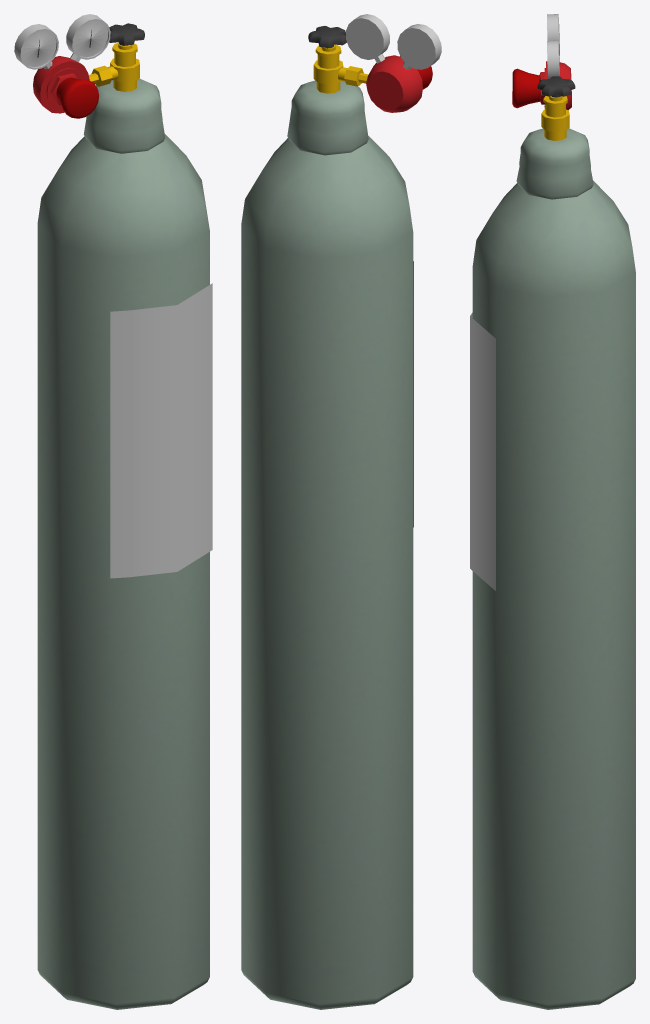
File: SM_氢气瓶.FBX
The picture shows the model from 3 angles, left to right: view 1: azimuth 30°, elevation 25°; view 2: azimuth 150°, elevation 25°; view 3: azimuth 270°, elevation 25°; orthographic projection. The views are drawn at different scales.
Visible parts, largest first — view 1: SM_氢气瓶_瓶体, SM_氢气_减压阀, SM_氢气瓶_开关; view 2: SM_氢气瓶_瓶体, SM_氢气瓶_开关; view 3: SM_氢气瓶_瓶体, SM_氢气_减压阀, SM_氢气瓶_开关.
Boxes of the visible parts, x1,y1,x2,y2 form: SM_氢气瓶_瓶体: (14, 14, 212, 1009); SM_氢气_减压阀: (56, 77, 98, 118); SM_氢气瓶_开关: (109, 23, 144, 45); SM_氢气瓶_瓶体: (241, 14, 441, 1009); SM_氢气瓶_开关: (308, 26, 346, 48); SM_氢气瓶_瓶体: (470, 14, 635, 1009); SM_氢气_减压阀: (512, 68, 540, 108); SM_氢气瓶_开关: (537, 76, 575, 97).
Size of the model in its own units: 0.2811 by 1.42 by 0.2309.
